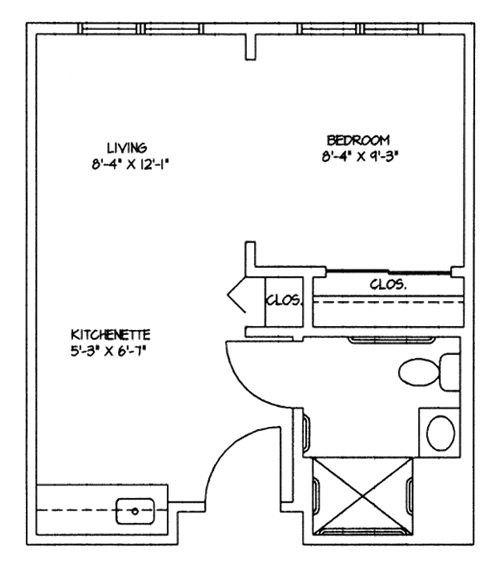door: (215, 332, 319, 416), (199, 418, 293, 510)
room: (248, 26, 469, 329), (40, 43, 255, 326), (43, 321, 209, 540), (303, 342, 474, 540)
wall: (21, 21, 51, 551), (461, 14, 483, 545), (300, 533, 479, 555), (194, 17, 298, 48), (21, 537, 178, 554), (21, 22, 84, 45), (425, 20, 473, 44), (287, 414, 299, 506), (178, 503, 213, 520), (280, 506, 307, 522)
window: (299, 16, 422, 48), (83, 21, 203, 44)
